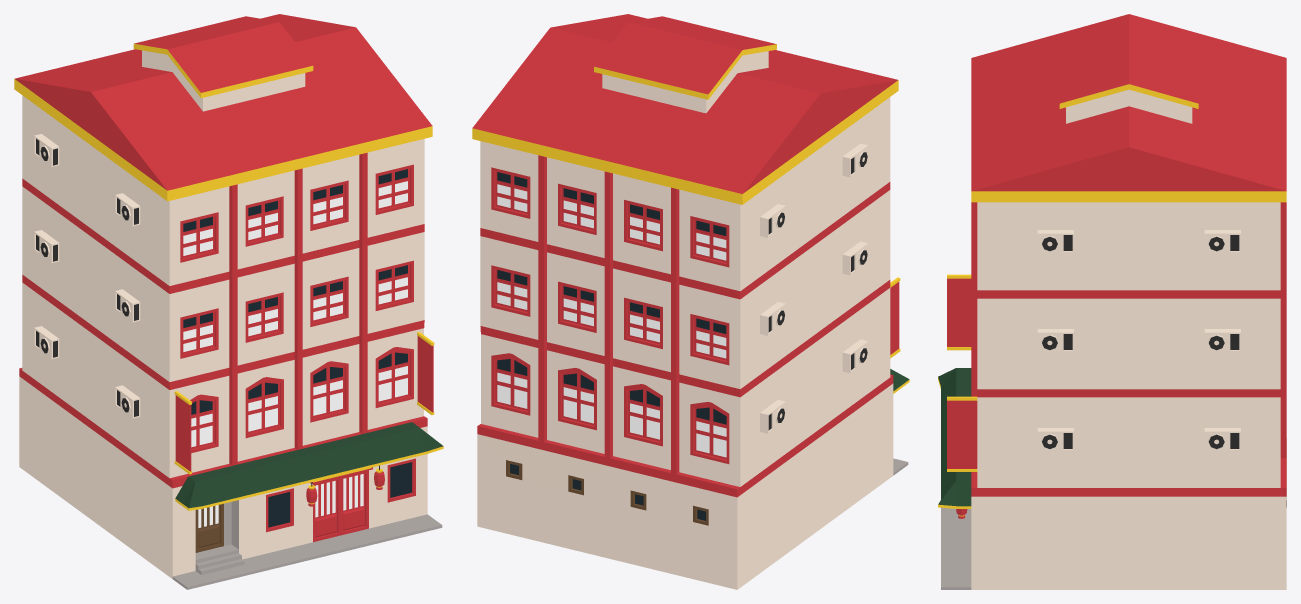
The model's file is building-apartment-china.glb.
3 renders of one model, left to right at view 1: azimuth 30°, elevation 25°; view 2: azimuth 150°, elevation 25°; view 3: azimuth 270°, elevation 25°, orthographic. The views are drawn at different scales.
Visible parts, largest first — view 1: building-apartment-china; view 2: building-apartment-china; view 3: building-apartment-china.
Boxes of the visible parts, x1=… form: building-apartment-china: x1=14, y1=14, x2=443, y2=589; building-apartment-china: x1=472, y1=14, x2=909, y2=589; building-apartment-china: x1=938, y1=14, x2=1286, y2=589.
Size of the model in its own units: 10.7 by 17.1 by 11.5.
1 material, 1 textured.
